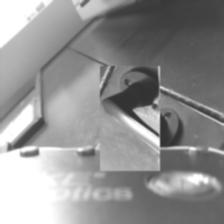Door Handle: (89, 77, 172, 159)
